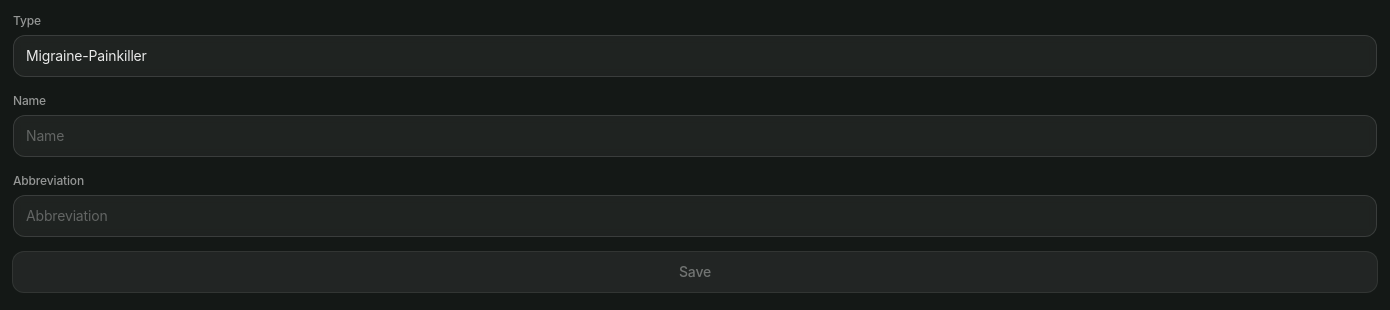
Test: <AddMedicineForm /> › enables submit button if form is valid
Expected: the button "Save" is disabled, x1=12 y1=251 x2=1378 y2=293
Step 1. Type "Test medicine" into the field labelled "Name" → (695, 136), box x1=13 y1=115 x2=1377 y2=157
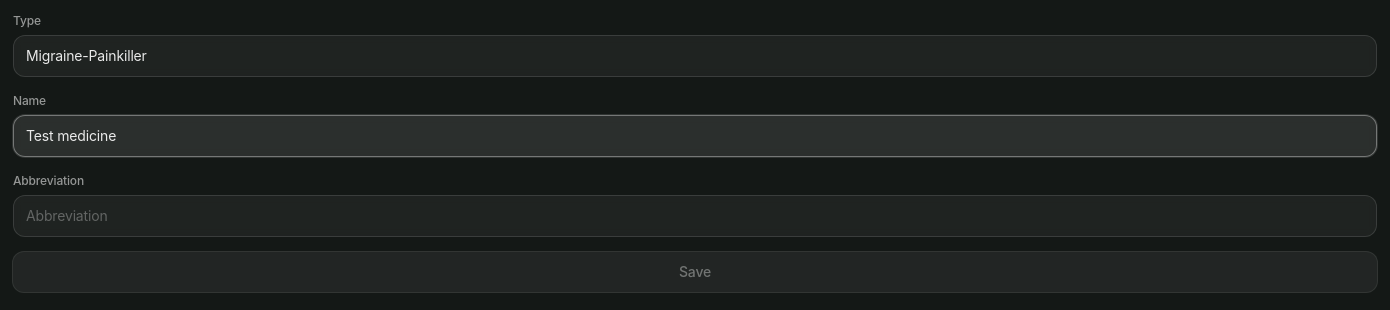
Expected: the button "Save" is disabled, x1=12 y1=251 x2=1378 y2=293
Step 2. Type "tst_med" into the field labelled "Abbreviation" → (695, 216), box x1=13 y1=195 x2=1377 y2=237
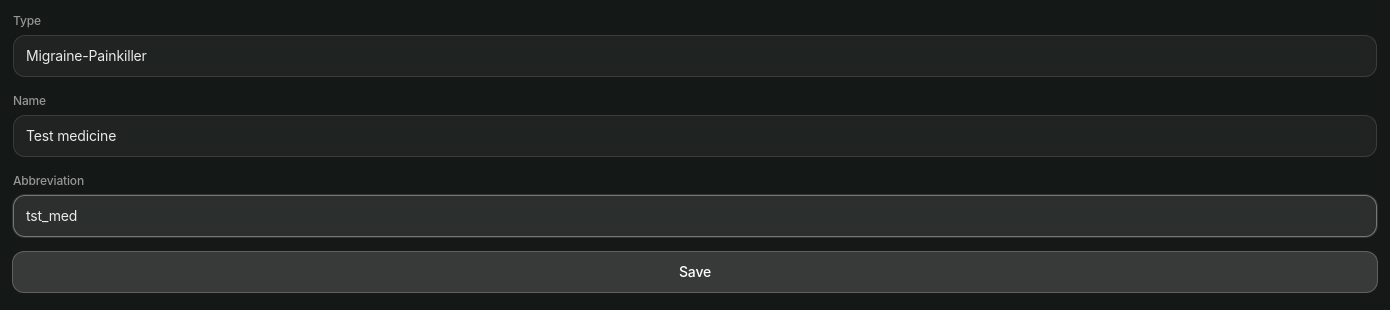
Result: the button "Save" is enabled at x1=12 y1=251 x2=1378 y2=293
